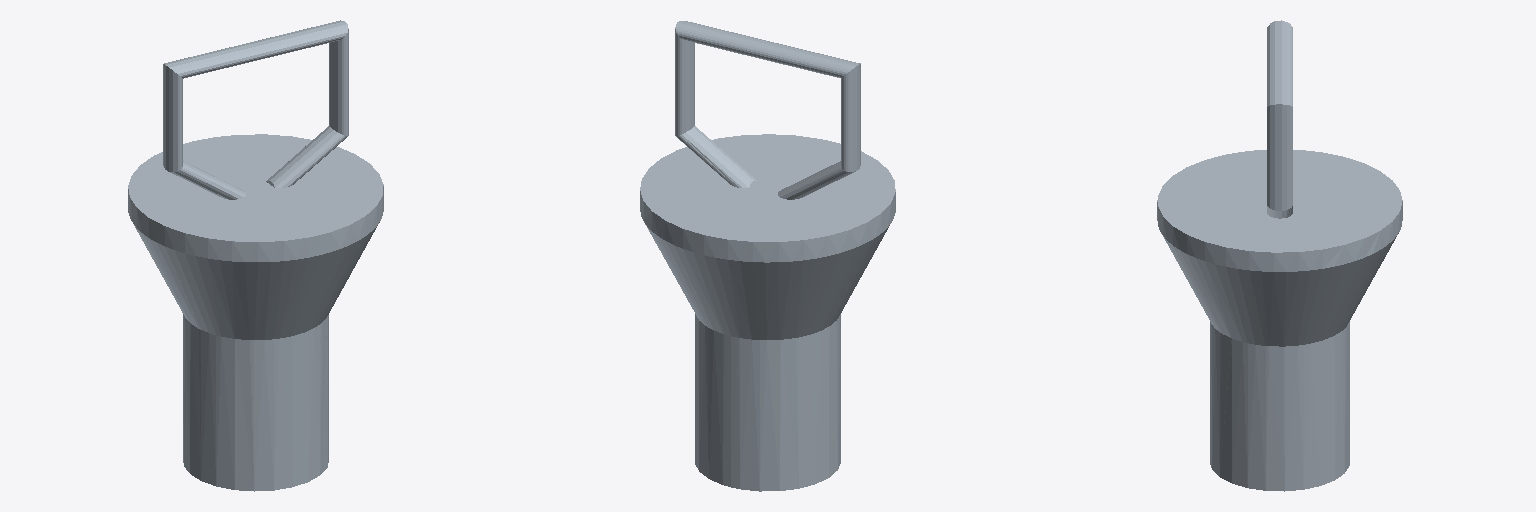
robot.urdf — valve_2:
<?xml version="1.0" encoding="utf-8"?>
<!-- Cleaned from the supplied SolidWorks part export. Source CAD file is not redistributed. -->
<robot name="valve_2">
  <link name="valve_2">
    <inertial>
      <origin
        xyz="1.8161E-05 6.41140000014957E-07 0.24427"
        rpy="0 0 0" />
      <mass
        value="5.3594" />
      <inertia
        ixx="0.045212"
        ixy="8.95240000000005E-08"
        ixz="-8.8733E-06"
        iyy="0.045868"
        iyz="-4.6571000000143E-07"
        izz="0.022515" />
    </inertial>
    <visual>
      <origin
        xyz="0 0 0"
        rpy="1.5707963267949 0 0" />
      <geometry>
        <mesh
          filename="package://valve_2/meshes/2号阀件.SLDPRT.STL" />
      </geometry>
      <material name="valve_2_material">
        <color rgba="0.72 0.76 0.80 1" />
      </material>
    </visual>
    <collision>
      <origin
        xyz="0 0 0"
        rpy="1.5707963267949 0 0" />
      <geometry>
        <mesh
          filename="package://valve_2/meshes/2号阀件.SLDPRT.STL" />
      </geometry>
    </collision>
  </link>
</robot>

--- Render facts (derived) ---
3 views of the same robot in one strip: view 1: azimuth 30°, elevation 25°; view 2: azimuth 150°, elevation 25°; view 3: azimuth 270°, elevation 25° (orthographic).
Robot: valve_2 — 1 links, 0 joints (none); root link valve_2; default pose: all joints at 0.
Links seen in each view (by area): view 1: valve_2; view 2: valve_2; view 3: valve_2.
Link boxes in pixels (box(x1,y1,x2,y2)): valve_2: box(128, 20, 383, 491); valve_2: box(640, 21, 895, 491); valve_2: box(1157, 20, 1402, 491).
Size in the robot's own frame: 0.2297 by 0.23 by 0.4134 metres.
Meshes: 1 distinct files referenced, 1 mesh visuals loaded (1 binary STL).
